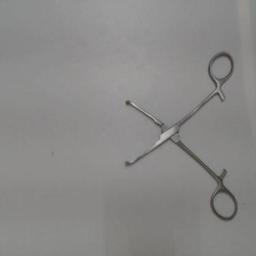Allis Tissue Forceps: (121, 46, 239, 224)
